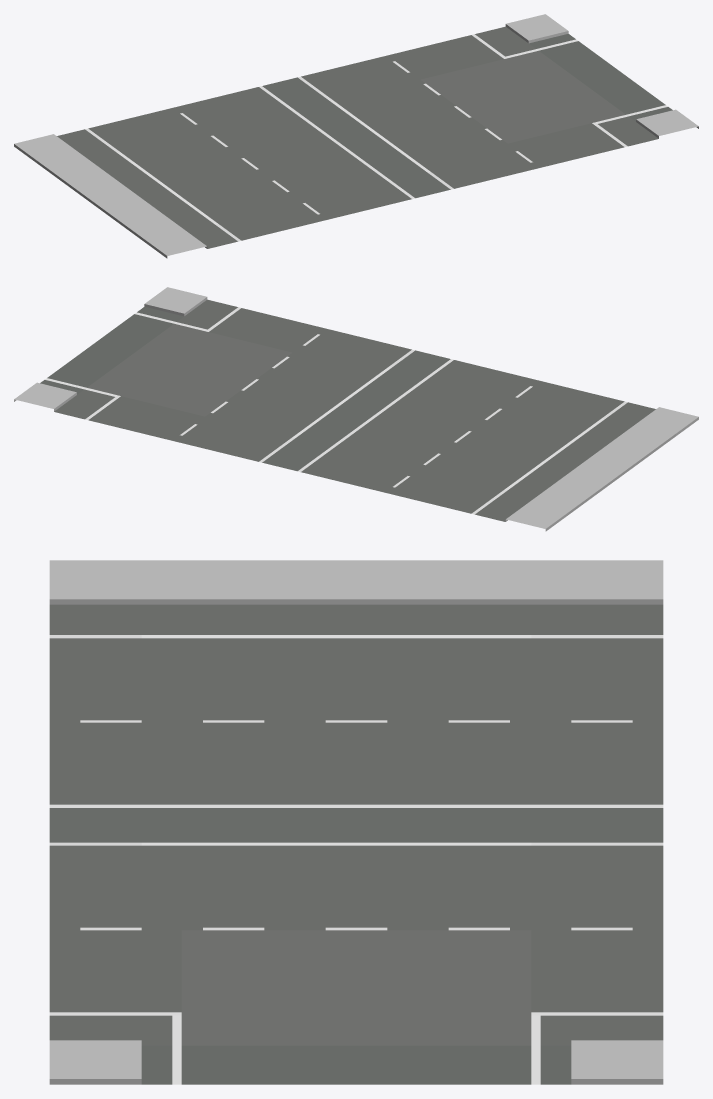
The model's file is Double_TCross.fbx.
3 views of the same model, one above another, from view 1: azimuth 30°, elevation 25°; view 2: azimuth 150°, elevation 25°; view 3: azimuth 270°, elevation 25° (orthographic). The views are drawn at different scales.
Visible parts, largest first — view 1: Plane; view 2: Plane; view 3: Plane.
Boxes of the visible parts, x1,y1,x2,y2 form: Plane: (14,14,698,258); Plane: (14,287,698,531); Plane: (49,560,663,1084).
Size of the model in its own units: 30 by 0.15 by 15.
